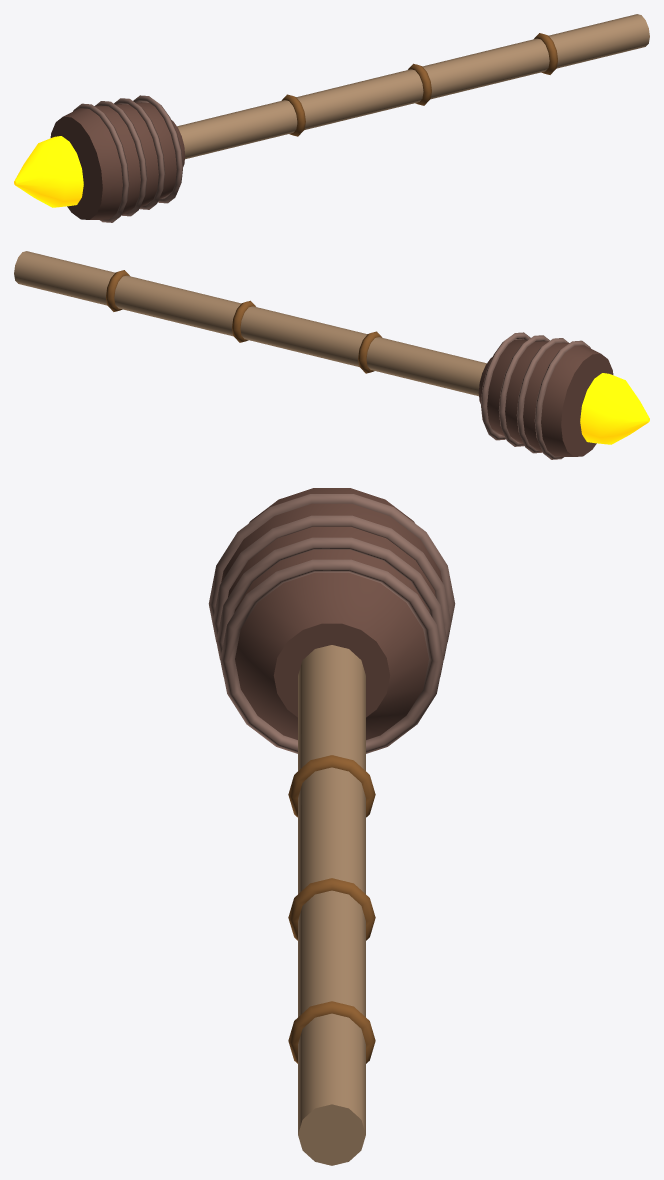
File: tiki_torch.fbx
The picture shows the model from 3 angles, top to bottom: view 1: azimuth 30°, elevation 25°; view 2: azimuth 150°, elevation 25°; view 3: azimuth 270°, elevation 25°; orthographic projection. The views are drawn at different scales.
Visible parts, largest first — view 1: Tiki Torch; view 2: Tiki Torch; view 3: Tiki Torch.
Boxes of the visible parts, x1=… form: Tiki Torch: x1=14, y1=14, x2=649, y2=222; Tiki Torch: x1=14, y1=251, x2=649, y2=459; Tiki Torch: x1=208, y1=488, x2=455, y2=1165.
Size of the model in its own units: 2.98 by 0.5003 by 0.508.
